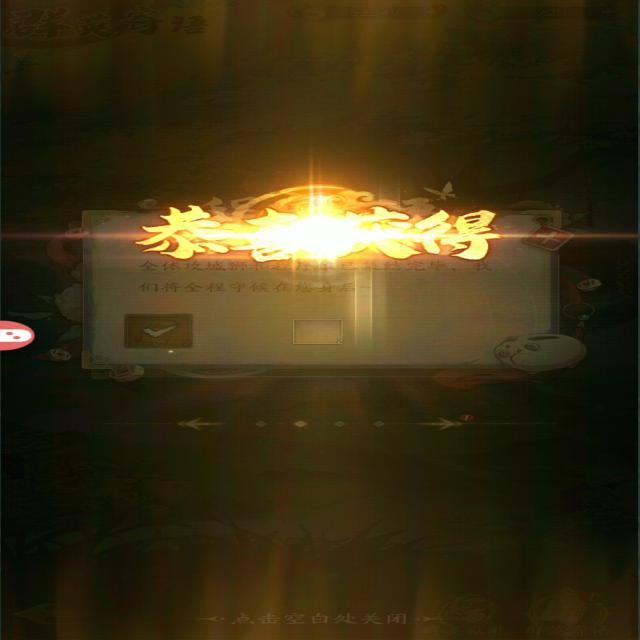hint-guide: (182, 598, 436, 636)
